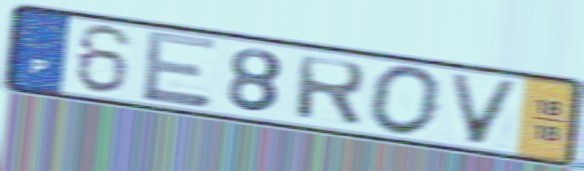6: (73, 23, 135, 97)
8: (224, 46, 286, 114)
E: (139, 27, 220, 111)
O: (367, 62, 446, 139)
R: (292, 53, 370, 129)
V: (445, 70, 525, 148)
